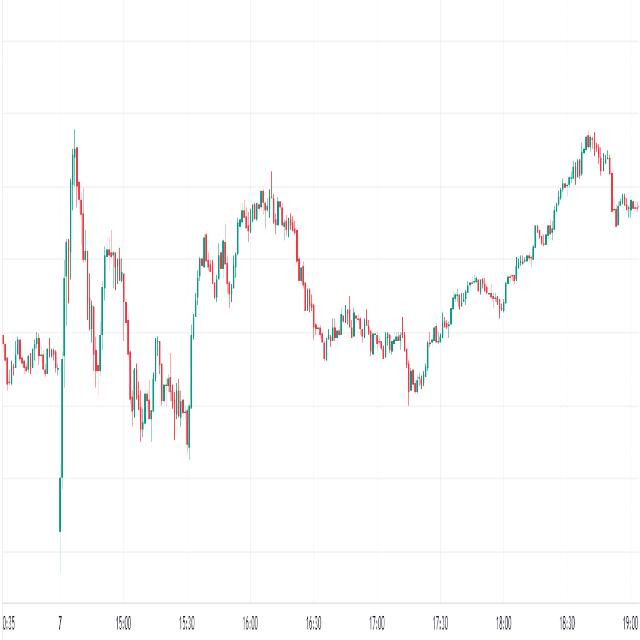Descending-Triangle: (55, 67, 218, 442)
Rounding-Top: (229, 159, 308, 294)
